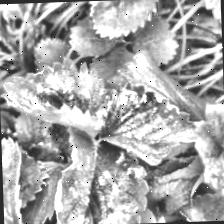Powdery Mildew Leaf: (51, 123, 150, 224), (0, 54, 110, 140), (96, 80, 200, 168)
